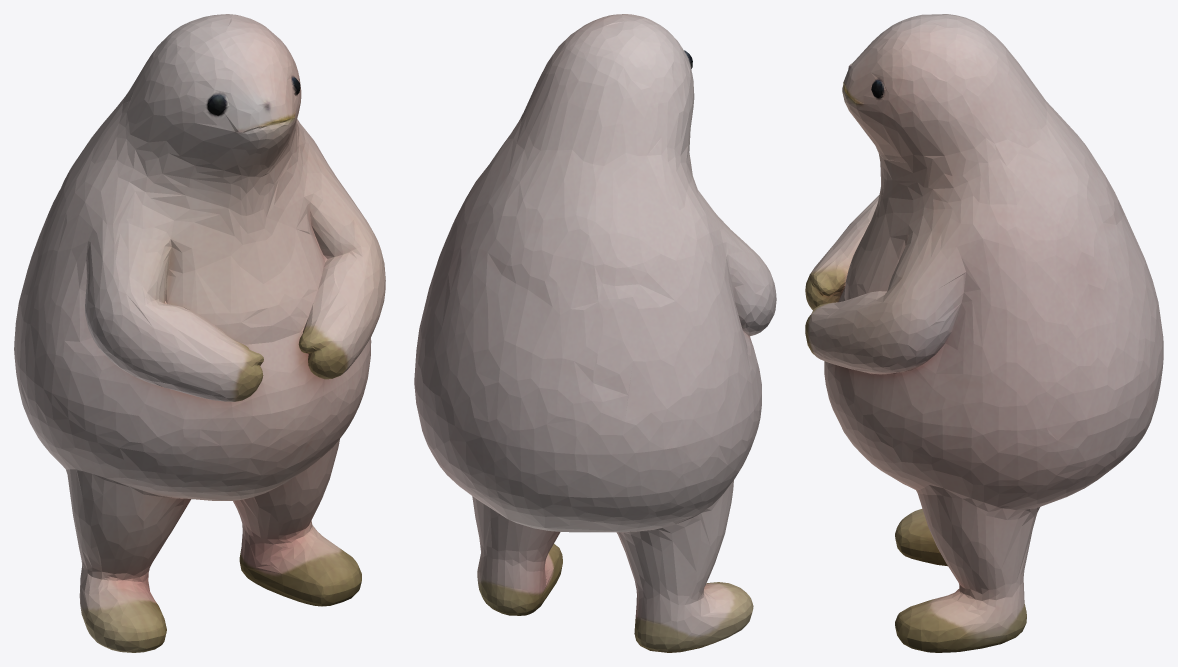
File: pink-frog.glb
3 renders of one model, left to right at view 1: azimuth 30°, elevation 25°; view 2: azimuth 150°, elevation 25°; view 3: azimuth 270°, elevation 25°, orthographic. The views are drawn at different scales.
Parts seen in each view (by area): view 1: geometry_0; view 2: geometry_0; view 3: geometry_0.
Boxes of the visible parts, box(x1,y1,x2,y2) form: geometry_0: box(14, 14, 385, 652); geometry_0: box(414, 14, 776, 652); geometry_0: box(805, 14, 1163, 652).
Bounding box in the file's own units: 0.0476 × 0.086 × 0.0482.
1 material, 1 textured.
